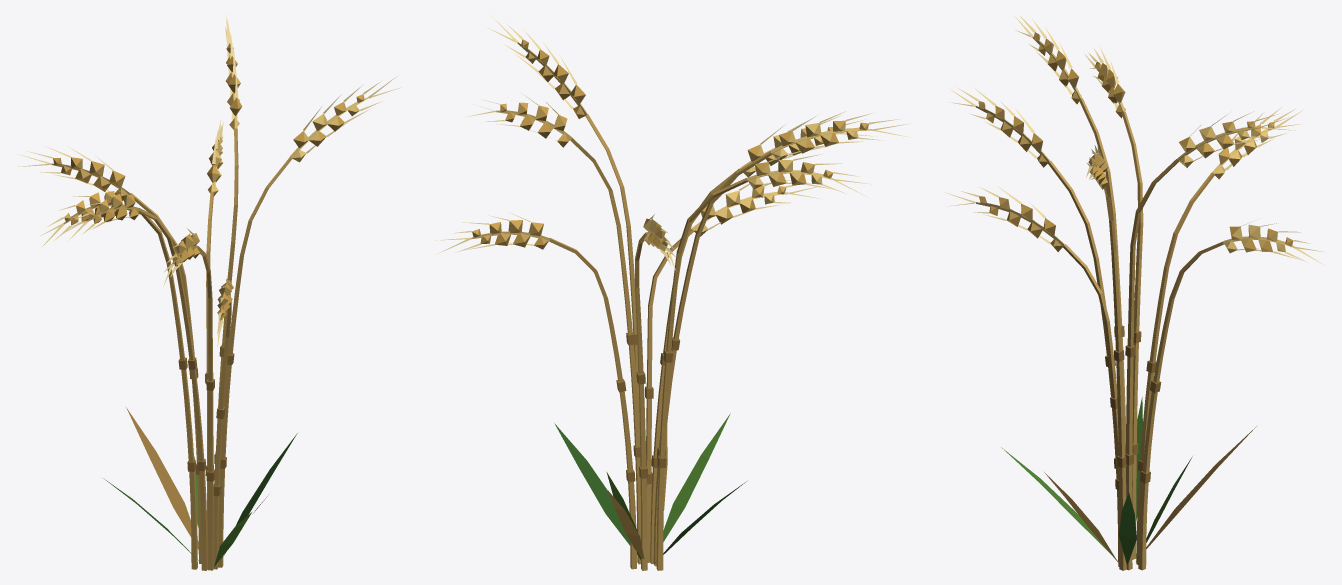
The model's file is wheat_wild1_v2.fbx.
3 views of the same model, side by side, from view 1: azimuth 30°, elevation 25°; view 2: azimuth 150°, elevation 25°; view 3: azimuth 270°, elevation 25° (orthographic). The views are drawn at different scales.
Parts seen in each view (by area): view 1: wheat_wild1_v2; view 2: wheat_wild1_v2; view 3: wheat_wild1_v2.
Boxes of the visible parts, left/top/right/bottom form: wheat_wild1_v2: left=17, top=15, right=400, bottom=570; wheat_wild1_v2: left=435, top=15, right=910, bottom=570; wheat_wild1_v2: left=945, top=15, right=1325, bottom=570.
Bounding box in the file's own units: 88.12 × 107 × 75.24.
